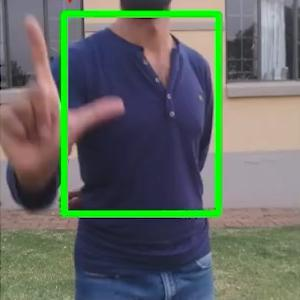land_hand: (0, 9, 129, 171)
